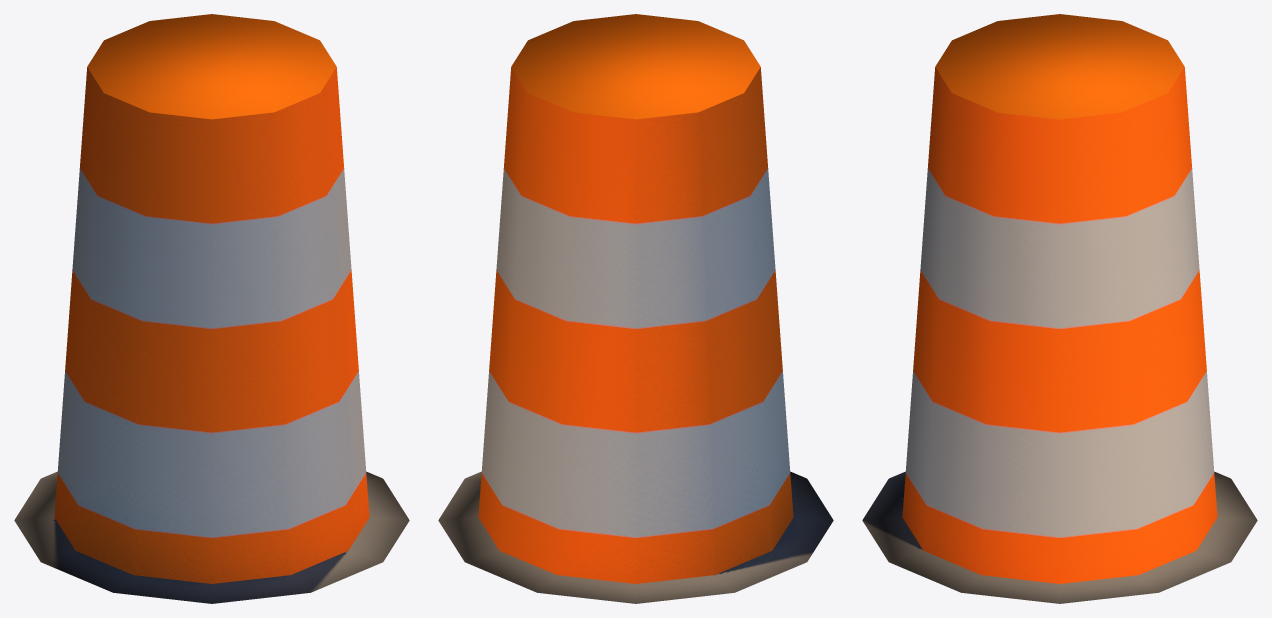
Rendered from barriercone.gltf.
3 renders of one model, left to right at view 1: azimuth 30°, elevation 25°; view 2: azimuth 150°, elevation 25°; view 3: azimuth 270°, elevation 25°, orthographic.
Parts seen in each view (by area): view 1: barrierCone_1; view 2: barrierCone_1; view 3: barrierCone_1.
Part boxes in pixels (box(x1,y1,x2,y2)): barrierCone_1: box(14, 14, 409, 603); barrierCone_1: box(438, 14, 833, 603); barrierCone_1: box(862, 14, 1257, 603).
Bounding box in the file's own units: 1.25 × 1.59 × 1.25.
Materials: 1 (1 with a texture image).
